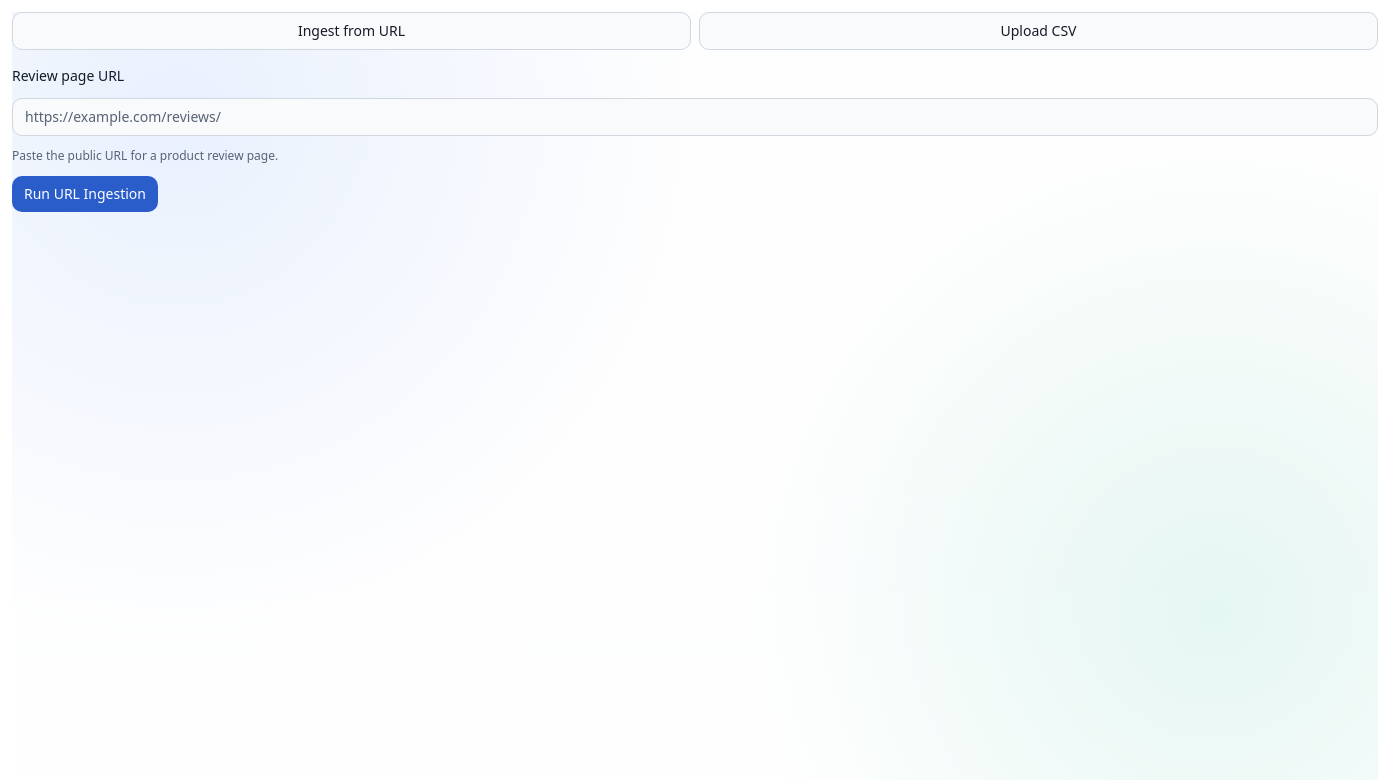
Test case: IngestionPanel › shows CSV fallback guidance when URL ingestion is blocked
Type "https://www.g2.com/products/example/reviews" into the field labelled "Review page URL" at (695,117), box [12,98,1378,136]
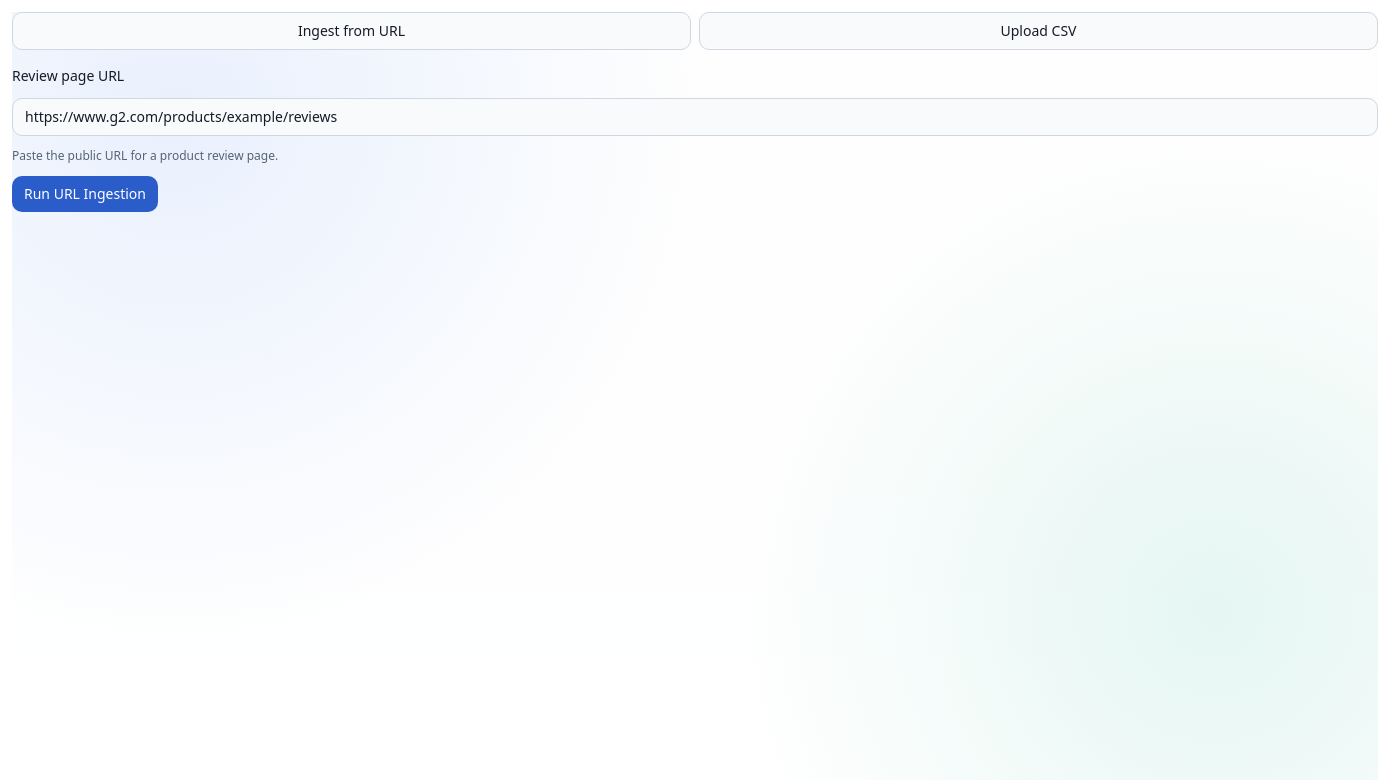
Click the button "Run URL Ingestion" at (85,194), box [12,176,158,212]
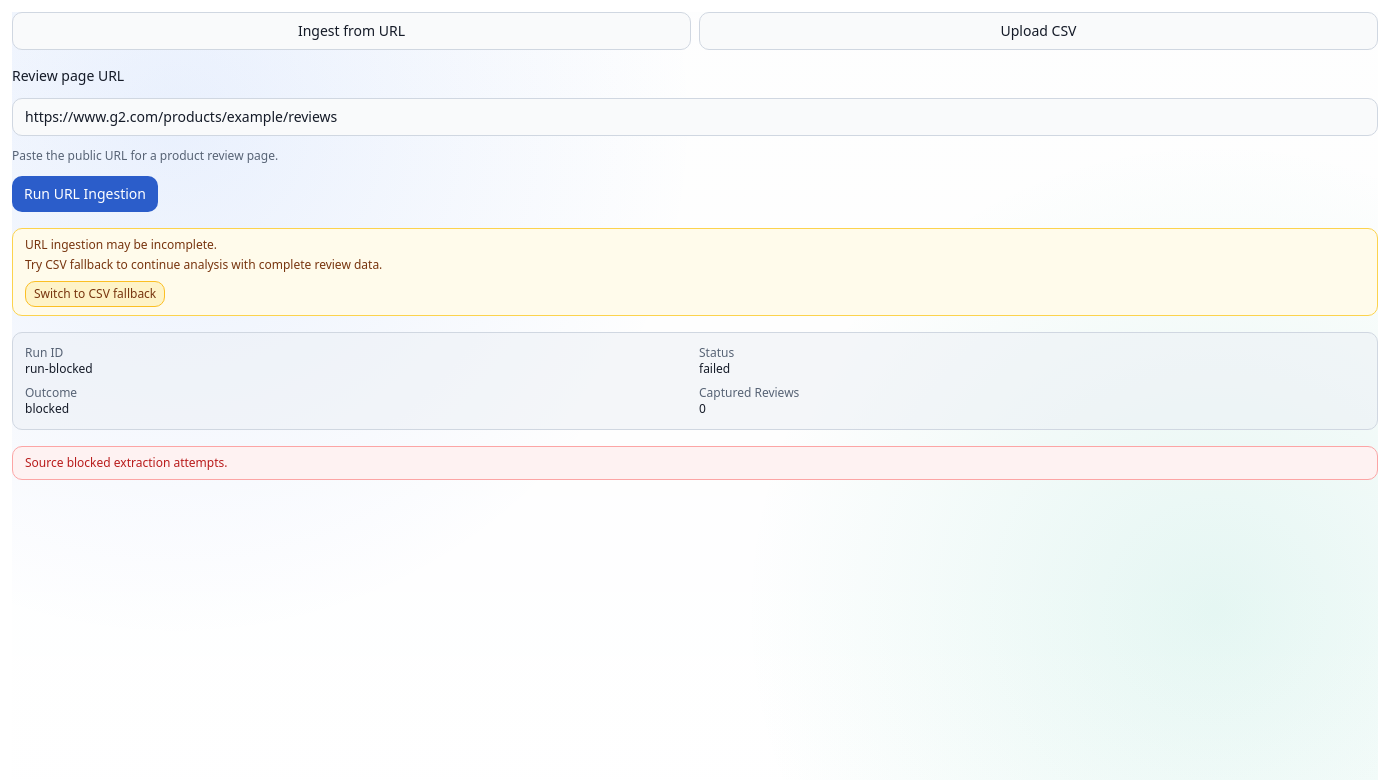
Expected: the text "URL ingestion may be incomplete." is shown, [25,236,217,253]
Click the button "Switch to CSV fallback" at (95,294), box [25,281,165,307]
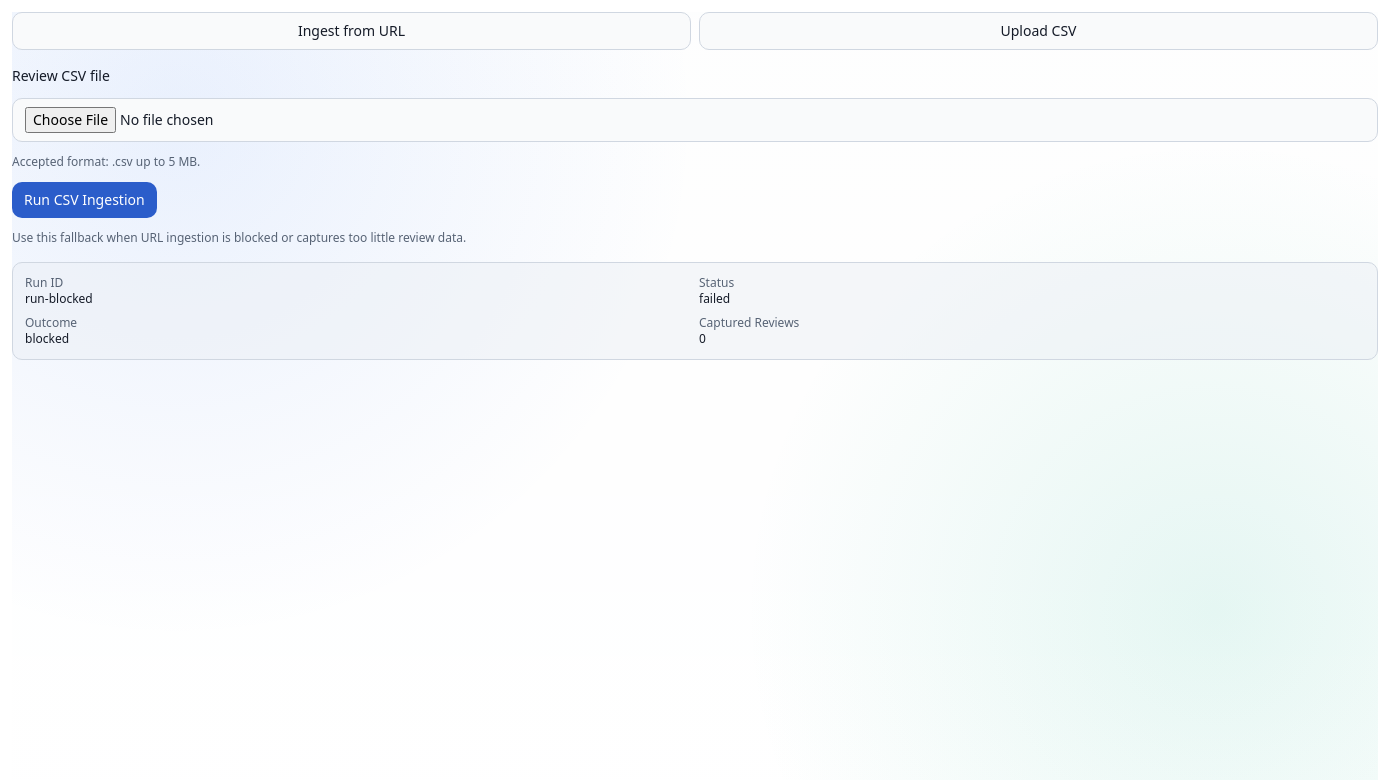
Expected: the button "Run CSV Ingestion" is shown, [12,182,157,218]
